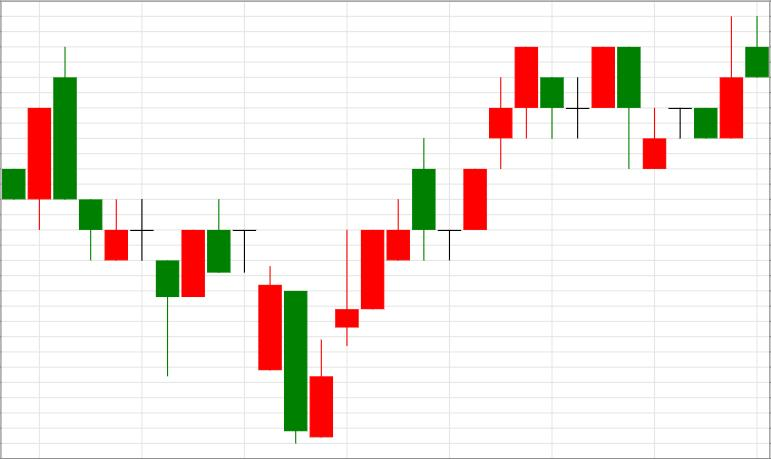hammer_rise: (54, 47, 179, 376)
